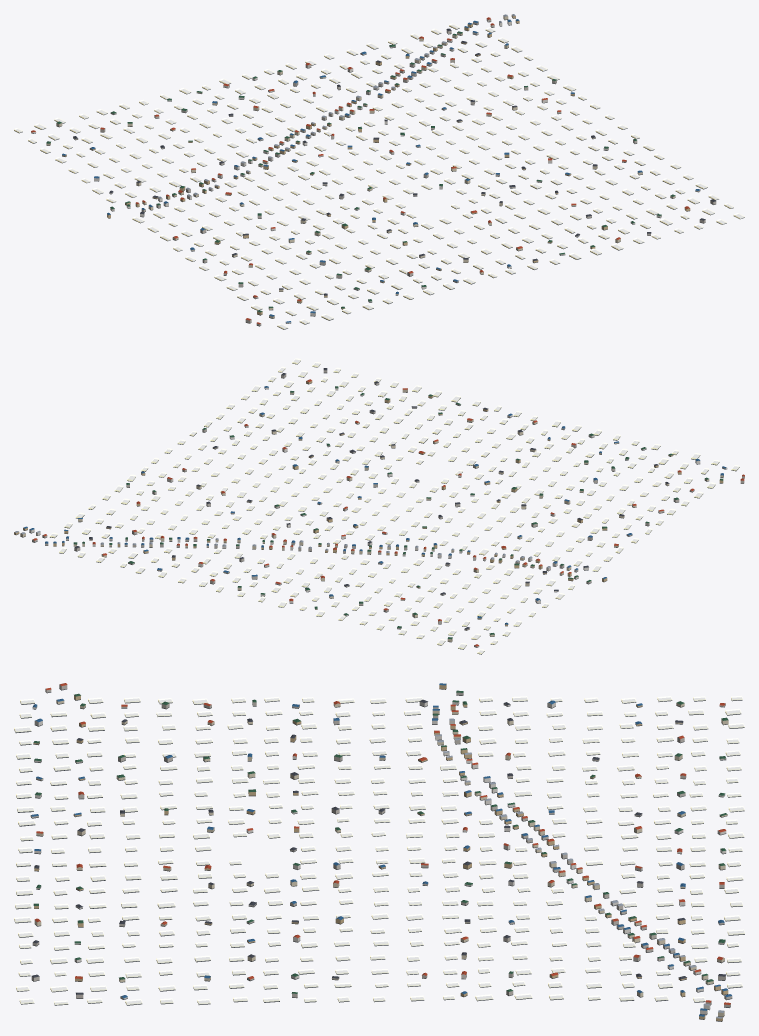
File: buildings_T_W01_N02.glb
3 renders of one model, top to bottom at view 1: azimuth 30°, elevation 25°; view 2: azimuth 150°, elevation 25°; view 3: azimuth 270°, elevation 25°, orthographic. The views are drawn at different scales.
Parts seen in each view (by area): view 1: T_W01_N02_roofs_agri_greenhouse_arch, T_W01_N02_slope_seating_foundations, T_W01_N02_walls_wall_dalat_cream_stucco, T_W01_N02_walls_wall_pastel_sand_gray, T_W01_N02_walls_wall_french_ochre_villa, T_W01_N02_walls_wall_modern_warm_white, T_W01_N02_roofs_roof_pine_green_hip, T_W01_N02_roofs_roof_terracotta_gable, T_W01_N02_roofs_roof_highland_blue_gable, T_W01_N02_roofs_roof_slate_French_villa_hip; view 2: T_W01_N02_roofs_agri_greenhouse_arch, T_W01_N02_slope_seating_foundations, T_W01_N02_walls_wall_dalat_cream_stucco, T_W01_N02_walls_wall_pastel_sand_gray, T_W01_N02_walls_wall_french_ochre_villa, T_W01_N02_roofs_roof_pine_green_hip, T_W01_N02_walls_wall_modern_warm_white, T_W01_N02_roofs_roof_terracotta_gable, T_W01_N02_roofs_roof_highland_blue_gable, T_W01_N02_roofs_roof_slate_French_villa_hip; view 3: T_W01_N02_roofs_agri_greenhouse_arch, T_W01_N02_slope_seating_foundations, T_W01_N02_walls_wall_dalat_cream_stucco, T_W01_N02_walls_wall_pastel_sand_gray, T_W01_N02_walls_wall_french_ochre_villa, T_W01_N02_walls_wall_modern_warm_white, T_W01_N02_roofs_roof_pine_green_hip, T_W01_N02_roofs_roof_terracotta_gable, T_W01_N02_roofs_roof_highland_blue_gable, T_W01_N02_roofs_roof_slate_French_villa_hip.
Part boxes in pixels (box(x1,y1,x2,y2)): T_W01_N02_roofs_agri_greenhouse_arch: box(14, 23, 744, 329); T_W01_N02_slope_seating_foundations: box(14, 17, 744, 329); T_W01_N02_walls_wall_dalat_cream_stucco: box(46, 15, 675, 318); T_W01_N02_walls_wall_pastel_sand_gray: box(100, 19, 716, 325); T_W01_N02_walls_wall_french_ochre_villa: box(62, 15, 690, 314); T_W01_N02_walls_wall_modern_warm_white: box(31, 20, 700, 323); T_W01_N02_roofs_roof_pine_green_hip: box(46, 31, 675, 312); T_W01_N02_roofs_roof_terracotta_gable: box(31, 17, 689, 324); T_W01_N02_roofs_roof_highland_blue_gable: box(62, 19, 700, 322); T_W01_N02_roofs_roof_slate_French_villa_hip: box(73, 28, 715, 295); T_W01_N02_roofs_agri_greenhouse_arch: box(49, 358, 739, 653); T_W01_N02_slope_seating_foundations: box(14, 360, 743, 654); T_W01_N02_walls_wall_dalat_cream_stucco: box(20, 389, 723, 641); T_W01_N02_walls_wall_pastel_sand_gray: box(32, 370, 744, 628); T_W01_N02_walls_wall_french_ochre_villa: box(14, 381, 723, 625); T_W01_N02_roofs_roof_pine_green_hip: box(73, 386, 723, 639); T_W01_N02_walls_wall_modern_warm_white: box(29, 387, 727, 647); T_W01_N02_roofs_roof_terracotta_gable: box(33, 379, 744, 646); T_W01_N02_roofs_roof_highland_blue_gable: box(23, 386, 726, 624); T_W01_N02_roofs_roof_slate_French_villa_hip: box(74, 368, 669, 629); T_W01_N02_roofs_agri_greenhouse_arch: box(14, 695, 744, 1004); T_W01_N02_slope_seating_foundations: box(14, 688, 744, 1021); T_W01_N02_walls_wall_dalat_cream_stucco: box(34, 700, 728, 1016); T_W01_N02_walls_wall_pastel_sand_gray: box(30, 684, 732, 1007); T_W01_N02_walls_wall_french_ochre_villa: box(33, 684, 728, 1021); T_W01_N02_walls_wall_modern_warm_white: box(32, 701, 726, 1014); T_W01_N02_roofs_roof_pine_green_hip: box(33, 690, 728, 993); T_W01_N02_roofs_roof_terracotta_gable: box(34, 683, 730, 1004); T_W01_N02_roofs_roof_highland_blue_gable: box(31, 683, 731, 1016); T_W01_N02_roofs_roof_slate_French_villa_hip: box(32, 699, 725, 994).
Size of the model in its own units: 1931 by 26.74 by 1773.
